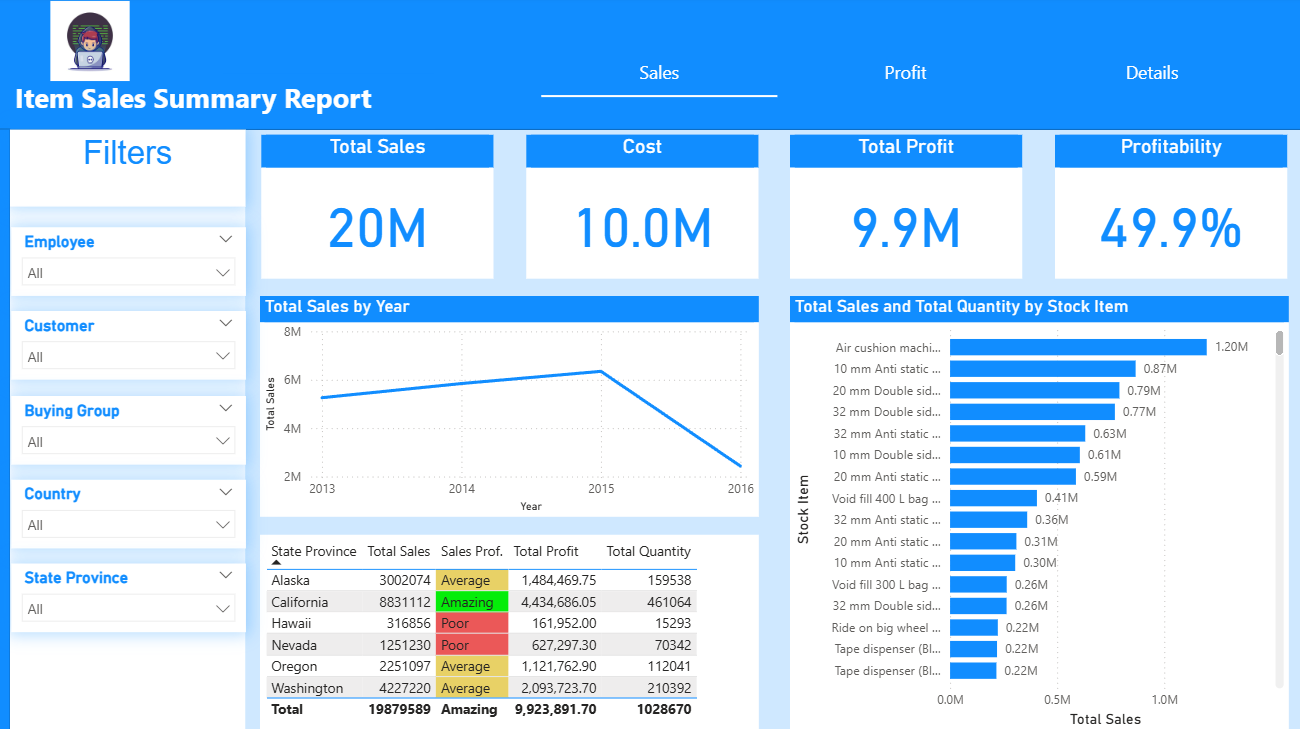

The dashboard page shown, as its layout file describes it:
{"tool":"powerbi","page":{"name":"Sales","canvas":[1280,720],"ordinal":0},"visuals":[{"type":"shape","box":[0,0,1280,131],"z":0},{"type":"shape","box":[0,129.3,15.1,591.3],"z":1000},{"type":"shape","box":[15.1,131,230.1,589.6],"z":2000},{"type":"textbox","title":"dsadsad","box":[15.1,131,230.1,75.6],"z":3000},{"type":"textbox","box":[15.1,75.6,414.9,53.8],"z":4000},{"type":"card","title":"Total Sales","fields":{"Values":["Sum(FactSale.Total Excluding Tax)"]},"box":[260.6,135.4,227.5,141.1],"z":6000},{"type":"card","title":"Cost","fields":{"Values":["FactSale.Cost"]},"box":[519.4,135.4,227.5,141.1],"z":7000},{"type":"card","title":"Total Profit","fields":{"Values":["Sum(FactSale.Profit)"]},"box":[778.1,135.4,227.5,141.1],"z":8000},{"type":"card","title":"Profitability","fields":{"Values":["FactSale.Profitability"]},"box":[1036.8,135.4,227.5,141.1],"z":9000},{"type":"lineChart","fields":{"Category":["DimDate.Date.Variation.Date Hierarchy.Year","DimDate.Date.Variation.Date Hierarchy.Quarter","DimDate.Date.Variation.Date Hierarchy.Month","DimDate.Date.Variation.Date Hierarchy.Day"],"Y":["Sum(FactSale.Total Excluding Tax)"]},"box":[259.2,293.8,488.2,216],"z":10000},{"type":"clusteredBarChart","fields":{"Y":["Sum(FactSale.Total Excluding Tax)"],"Category":["DimStockItem.Stock Item"]},"box":[777.6,293.8,488.2,426.2],"z":11000},{"type":"tableEx","fields":{"Values":["DimCity.State Province","Sum(FactSale.Total Excluding Tax)","FactSale.Sales Prof.","Sum(FactSale.Profit)","Sum(FactSale.Quantity)"]},"box":[259.2,527,488.2,193],"z":12000},{"type":"slicer","fields":{"Values":["DimEmployee.Employee"]},"box":[15.5,226,229.4,67.3],"z":13000},{"type":"slicer","fields":{"Values":["DimCustomer.Customer"]},"box":[15.5,308.4,229.4,67.3],"z":14000},{"type":"slicer","fields":{"Values":["DimCustomer.Buying Group"]},"box":[15.5,390.7,229.4,67.3],"z":15000},{"type":"slicer","fields":{"Values":["DimCity.Country"]},"box":[15.5,473.1,229.4,67.3],"z":16000},{"type":"slicer","fields":{"Values":["DimCity.State Province"]},"box":[15.5,555.5,229.4,67.3],"z":17000},{"type":"pageNavigator","box":[534.2,49,714.2,50.4],"z":18000},{"type":"image","box":[29.3,0,127.2,88],"z":18001}]}

Visuals, with their boxes in screenshot pixels (x1, y1, x2, y2), scaled from the page's 1280x720 canvas onto the 1300x729 screenshot:
shape: (left=0, top=0, right=1299, bottom=133)
shape: (left=0, top=131, right=15, bottom=728)
shape: (left=15, top=133, right=249, bottom=728)
"dsadsad" textbox: (left=15, top=133, right=249, bottom=209)
textbox: (left=15, top=77, right=437, bottom=131)
"Total Sales" card: (left=265, top=137, right=496, bottom=280)
"Cost" card: (left=528, top=137, right=759, bottom=280)
"Total Profit" card: (left=790, top=137, right=1021, bottom=280)
"Profitability" card: (left=1053, top=137, right=1284, bottom=280)
lineChart - DimDate.Date.Variation.Date Hierarchy.Year x DimDate.Date.Variation.Date Hierarchy.Quarter: (left=263, top=297, right=759, bottom=516)
clusteredBarChart - Sum(FactSale.Total Excluding Tax) x DimStockItem.Stock Item: (left=790, top=297, right=1286, bottom=728)
tableEx - DimCity.State Province x Sum(FactSale.Total Excluding Tax): (left=263, top=534, right=759, bottom=728)
slicer - DimEmployee.Employee: (left=16, top=229, right=249, bottom=297)
slicer - DimCustomer.Customer: (left=16, top=312, right=249, bottom=380)
slicer - DimCustomer.Buying Group: (left=16, top=396, right=249, bottom=464)
slicer - DimCity.Country: (left=16, top=479, right=249, bottom=547)
slicer - DimCity.State Province: (left=16, top=562, right=249, bottom=631)
pageNavigator: (left=543, top=50, right=1268, bottom=101)
image: (left=30, top=0, right=159, bottom=89)
